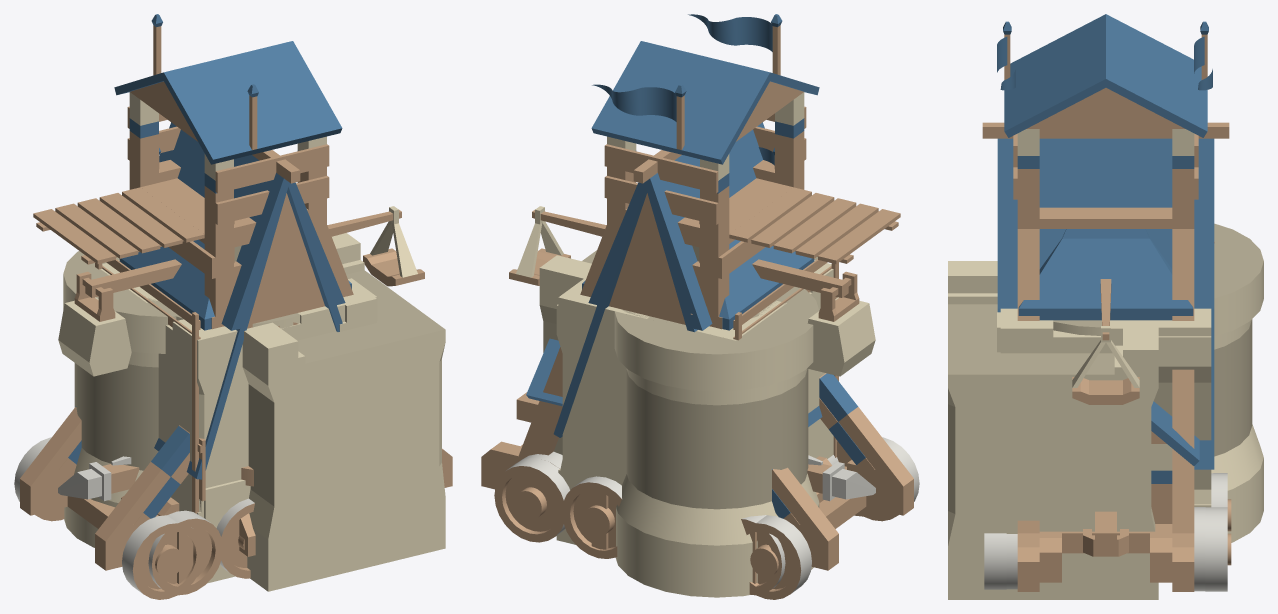
Rendered from castle.glb.
The picture shows the model from 3 angles, left to right: view 1: azimuth 30°, elevation 25°; view 2: azimuth 150°, elevation 25°; view 3: azimuth 270°, elevation 25°; orthographic projection. The views are drawn at different scales.
Parts seen in each view (by area): view 1: Mesh22 wallCornerHalfTower Model, Mesh92 body3 siegeTower_8angles Model, Mesh149 towerSlantRoof_exclusive Model, Mesh64 body siegeTrebuchet_8angles Model, Mesh93 bridge2 siegeTower_8angles Model, Mesh6 wall Model, Mesh65 weight siegeTrebuchet_8angles Model, Mesh7 wallCorner Model, Mesh66 wheelFrontLeft siegeTrebuchet_8angles Model, Mesh18 towerSquareRoof Model, Mesh76 wheelFrontLeft1 siegeCatapult_8angles Model, Mesh10 wallNarrowStairsFence Model (+14 smaller); view 2: Mesh22 wallCornerHalfTower Model, Mesh92 body3 siegeTower_8angles Model, Mesh149 towerSlantRoof_exclusive Model, Mesh64 body siegeTrebuchet_8angles Model, Mesh93 bridge2 siegeTower_8angles Model, Mesh13 wallNarrowWood Model, Mesh96 wheelBackRight2 siegeTower_8angles Model, Mesh65 weight siegeTrebuchet_8angles Model, Mesh18 towerSquareRoof Model, Mesh69 wheelFrontRight siegeTrebuchet_8angles Model, Mesh151 wallHalfModular_exclusive Model, Mesh62 trebuchet siegeTrebuchet_8angles Model (+18 smaller); view 3: Mesh22 wallCornerHalfTower Model, Mesh92 body3 siegeTower_8angles Model, Mesh149 towerSlantRoof_exclusive Model, Mesh18 towerSquareRoof Model, Mesh5 wallNarrowWoodFence Model, Mesh103 body4 siegeRam_8angles Model, Mesh63 catapult siegeTrebuchet_8angles Model, Mesh96 wheelBackRight2 siegeTower_8angles Model, Mesh95 wheelBackLeft2 siegeTower_8angles Model, Mesh106 wheelBackRight3 siegeRam_8angles Model, Mesh102 ram siegeRam_8angles Model, Mesh23 towerBase Model (+7 smaller).
Boxes of the visible parts, bbox=[...] form: Mesh22 wallCornerHalfTower Model: bbox=[63, 233, 445, 591]; Mesh92 body3 siegeTower_8angles Model: bbox=[114, 41, 452, 487]; Mesh149 towerSlantRoof_exclusive Model: bbox=[154, 122, 345, 479]; Mesh64 body siegeTrebuchet_8angles Model: bbox=[20, 261, 255, 570]; Mesh93 bridge2 siegeTower_8angles Model: bbox=[33, 187, 204, 264]; Mesh6 wall Model: bbox=[130, 287, 248, 517]; Mesh65 weight siegeTrebuchet_8angles Model: bbox=[58, 271, 131, 376]; Mesh7 wallCorner Model: bbox=[158, 343, 242, 512]; Mesh66 wheelFrontLeft siegeTrebuchet_8angles Model: bbox=[122, 515, 204, 599]; Mesh18 towerSquareRoof Model: bbox=[100, 239, 375, 340]; Mesh76 wheelFrontLeft1 siegeCatapult_8angles Model: bbox=[148, 510, 223, 595]; Mesh10 wallNarrowStairsFence Model: bbox=[204, 297, 376, 583]; Mesh22 wallCornerHalfTower Model: bbox=[539, 250, 819, 597]; Mesh92 body3 siegeTower_8angles Model: bbox=[481, 41, 819, 489]; Mesh149 towerSlantRoof_exclusive Model: bbox=[553, 122, 822, 437]; Mesh64 body siegeTrebuchet_8angles Model: bbox=[692, 261, 913, 570]; Mesh93 bridge2 siegeTower_8angles Model: bbox=[729, 187, 900, 263]; Mesh13 wallNarrowWood Model: bbox=[558, 306, 626, 544]; Mesh96 wheelBackRight2 siegeTower_8angles Model: bbox=[494, 458, 569, 542]; Mesh65 weight siegeTrebuchet_8angles Model: bbox=[807, 271, 875, 376]; Mesh18 towerSquareRoof Model: bbox=[558, 239, 833, 340]; Mesh69 wheelFrontRight siegeTrebuchet_8angles Model: bbox=[744, 515, 811, 599]; Mesh151 wallHalfModular_exclusive Model: bbox=[598, 317, 626, 477]; Mesh62 trebuchet siegeTrebuchet_8angles Model: bbox=[532, 210, 848, 297]; Mesh22 wallCornerHalfTower Model: bbox=[948, 223, 1263, 599]; Mesh92 body3 siegeTower_8angles Model: bbox=[1004, 14, 1207, 591]; Mesh149 towerSlantRoof_exclusive Model: bbox=[982, 122, 1229, 469]; Mesh18 towerSquareRoof Model: bbox=[1000, 229, 1211, 336]; Mesh5 wallNarrowWoodFence Model: bbox=[1000, 327, 1211, 504]; Mesh103 body4 siegeRam_8angles Model: bbox=[1039, 401, 1199, 582]; Mesh63 catapult siegeTrebuchet_8angles Model: bbox=[1072, 326, 1139, 404]; Mesh96 wheelBackRight2 siegeTower_8angles Model: bbox=[1205, 507, 1231, 591]; Mesh95 wheelBackLeft2 siegeTower_8angles Model: bbox=[984, 533, 1006, 589]; Mesh106 wheelBackRight3 siegeRam_8angles Model: bbox=[1194, 507, 1205, 591]; Mesh102 ram siegeRam_8angles Model: bbox=[1095, 511, 1116, 553]; Mesh23 towerBase Model: bbox=[1053, 320, 1101, 335].
Size of the model in its own units: 1.99 by 2.6 by 1.5.
